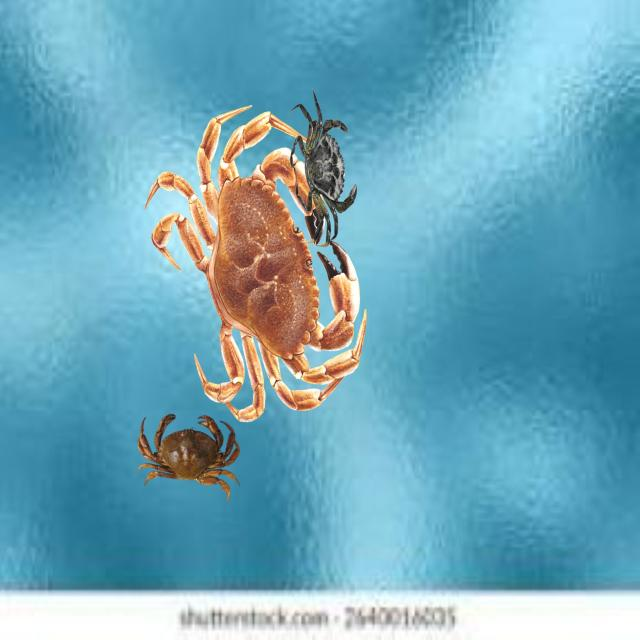European_Green_Crab: (290, 96, 362, 239)
